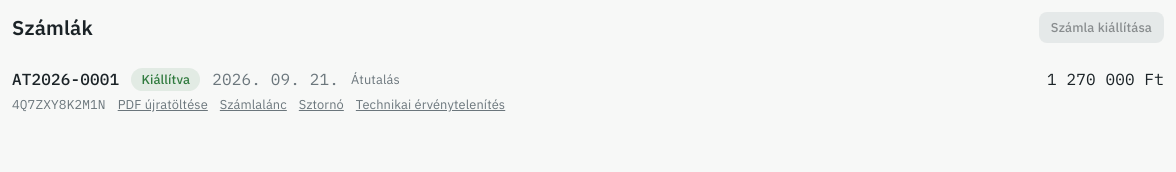
Test: InvoicesSection › offers to fetch the PDF again for an issued invoice filed without one
This screenshot has width=1176, height=172.
Click the button "PDF újratöltése" at (163, 105), box [118, 95, 208, 114]
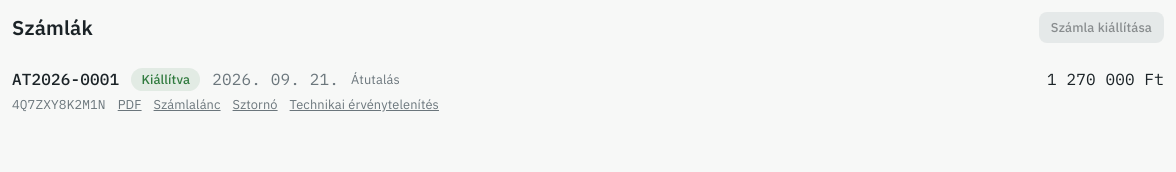
Expected: the button "PDF" is shown, [118, 95, 142, 114]
Result: the button "PDF újratöltése" is gone
